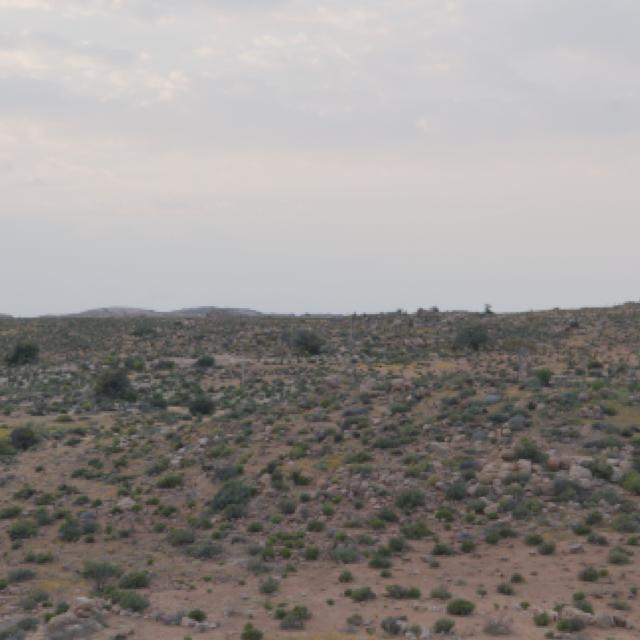Airaplan: (369, 365, 392, 368)
